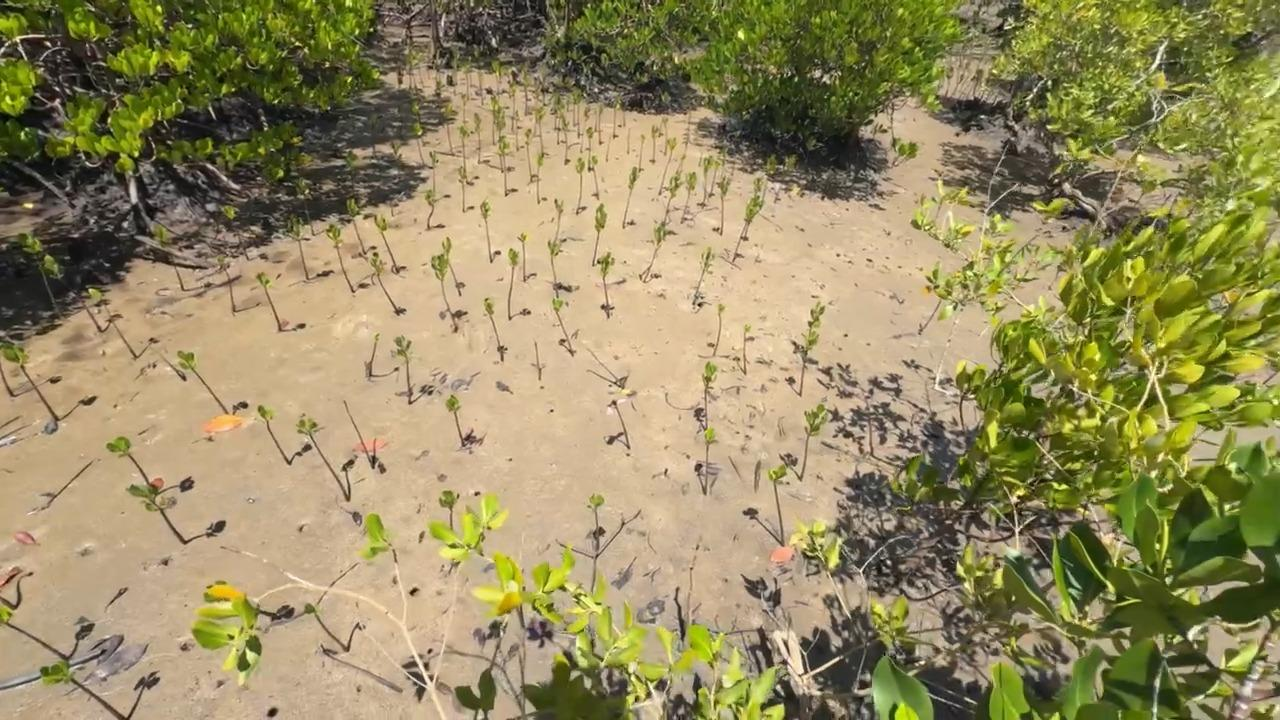Tree: (39, 659, 129, 720), (0, 341, 61, 422), (44, 254, 103, 332), (296, 419, 351, 501), (0, 603, 70, 660), (19, 232, 64, 318), (126, 484, 187, 545), (87, 288, 139, 358), (177, 350, 230, 416), (149, 220, 185, 291), (799, 404, 828, 483), (343, 399, 375, 470), (305, 603, 351, 652), (106, 436, 151, 485), (732, 194, 763, 263), (326, 222, 356, 293), (431, 254, 457, 330), (258, 404, 291, 462), (219, 204, 250, 261), (767, 464, 788, 547), (371, 258, 401, 316), (287, 212, 310, 279), (550, 298, 576, 357), (588, 348, 624, 390), (256, 271, 281, 331), (643, 221, 667, 283), (374, 215, 399, 273), (692, 246, 716, 306), (743, 178, 764, 241), (799, 331, 820, 393), (484, 297, 504, 362), (597, 251, 616, 318), (774, 154, 798, 204), (657, 137, 677, 197), (217, 253, 237, 312), (394, 335, 411, 404), (607, 399, 630, 449), (296, 176, 315, 236), (622, 167, 640, 229), (493, 134, 511, 196), (445, 394, 466, 447), (703, 362, 719, 431), (703, 427, 719, 496), (442, 236, 460, 297), (347, 198, 366, 255), (587, 493, 605, 553), (591, 203, 608, 266), (917, 298, 943, 335), (664, 174, 684, 222), (547, 237, 562, 300), (480, 196, 494, 263), (507, 248, 520, 320), (440, 102, 457, 156), (716, 175, 731, 236), (680, 172, 697, 225), (495, 104, 507, 174), (892, 137, 919, 168), (439, 489, 459, 530), (472, 44, 485, 106), (410, 98, 426, 146), (762, 154, 778, 200), (411, 121, 427, 166), (345, 150, 360, 196), (712, 303, 725, 356), (536, 152, 549, 205), (457, 124, 469, 180), (807, 300, 826, 335), (639, 251, 661, 281), (701, 155, 713, 208), (535, 105, 547, 158), (161, 358, 188, 381), (575, 157, 585, 216), (450, 43, 461, 96), (0, 360, 16, 396), (555, 94, 566, 145), (517, 232, 528, 282), (520, 62, 530, 116), (368, 333, 380, 376), (460, 59, 472, 102), (367, 111, 378, 157), (405, 47, 415, 97), (525, 128, 534, 182), (538, 63, 549, 107), (424, 189, 436, 229), (391, 140, 403, 180), (415, 41, 425, 89), (429, 150, 439, 196), (742, 323, 751, 374), (473, 113, 482, 164), (490, 95, 499, 146), (554, 198, 564, 242), (561, 111, 569, 166), (410, 46, 419, 93), (492, 55, 502, 97), (575, 87, 583, 139), (709, 160, 720, 197), (591, 156, 600, 200), (510, 81, 518, 129), (586, 127, 594, 173), (613, 95, 621, 140), (554, 80, 561, 130), (564, 76, 573, 111), (513, 109, 520, 152), (457, 166, 463, 213), (534, 342, 541, 381), (872, 121, 889, 136), (652, 124, 658, 165), (460, 93, 467, 128), (663, 117, 669, 156), (599, 103, 604, 145), (573, 85, 578, 126), (675, 155, 685, 174), (639, 134, 644, 172), (722, 143, 729, 168), (606, 133, 611, 162), (627, 128, 631, 154), (580, 131, 584, 154), (594, 108, 597, 132), (623, 108, 626, 127)
